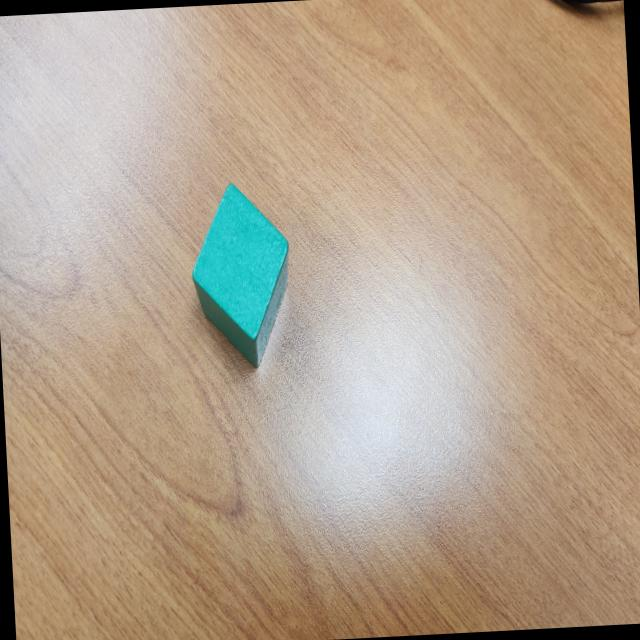green: (187, 180, 295, 368)
